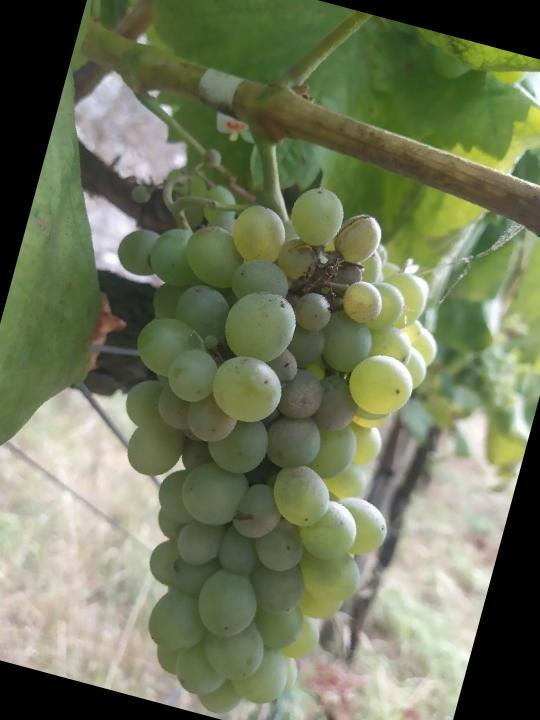grape: (6, 131, 480, 720)
